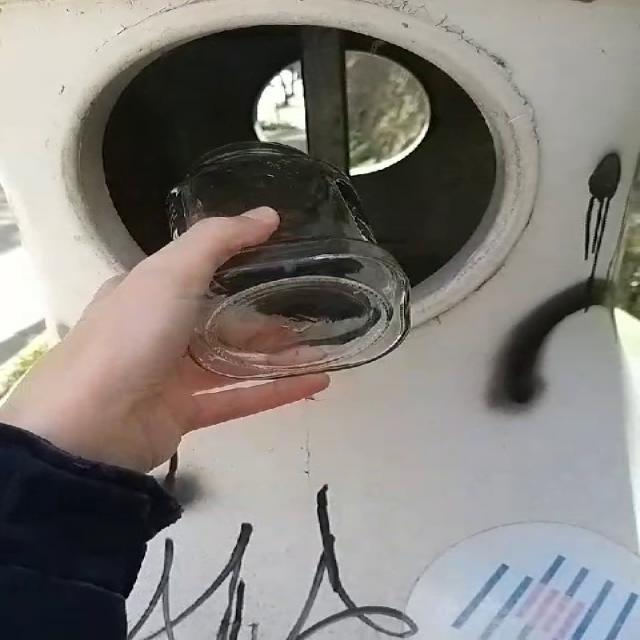Glass: (167, 141, 409, 379)
